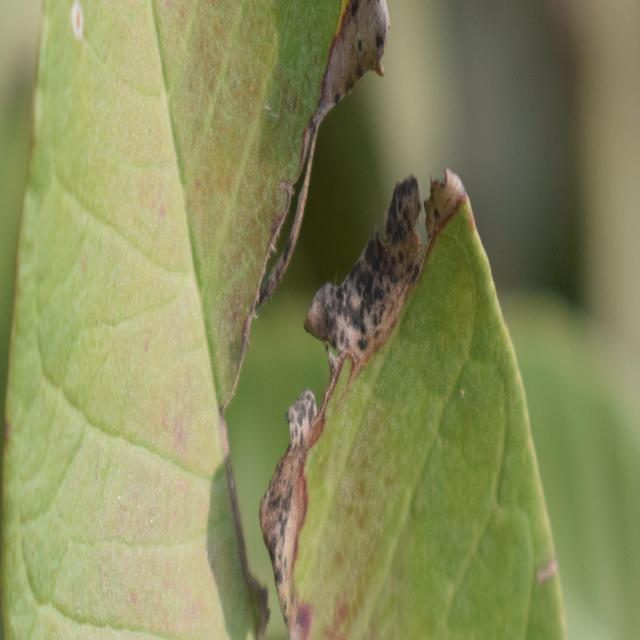Dot: (1, 0, 389, 639), (260, 172, 565, 639)
